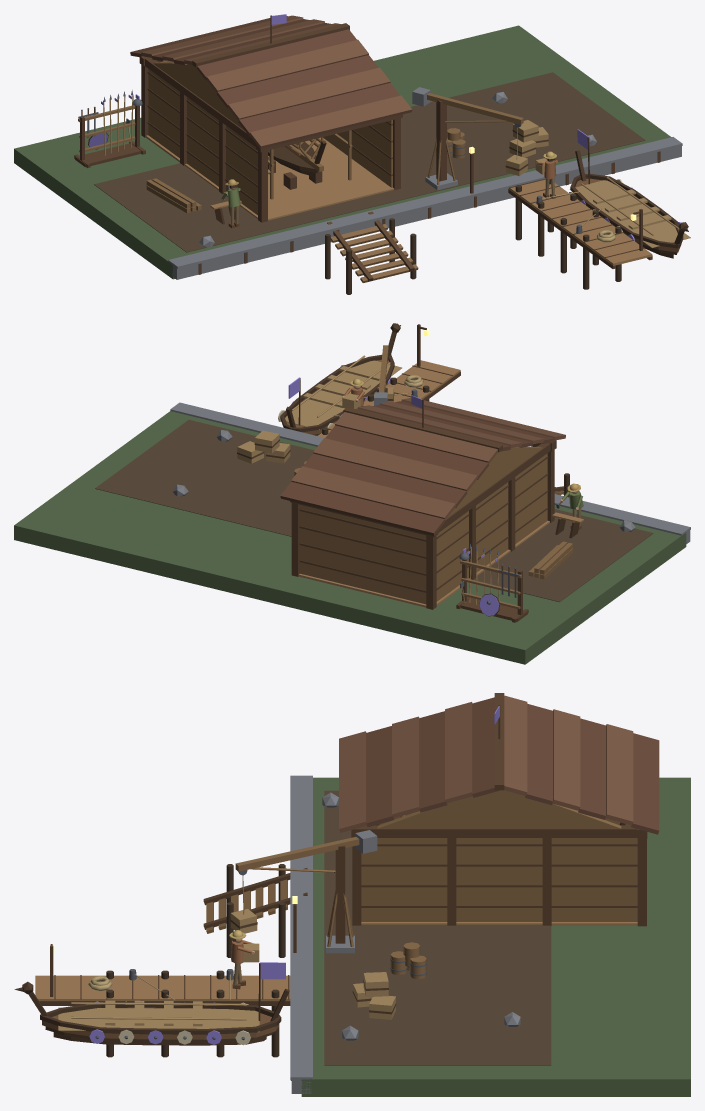
The model's file is Harbour.glb.
The picture shows the model from 3 angles, top to bottom: view 1: azimuth 30°, elevation 25°; view 2: azimuth 150°, elevation 25°; view 3: azimuth 270°, elevation 25°; orthographic projection. The views are drawn at different scales.
Visible parts, largest first — view 1: yard_dirt, land, shingle_row (×12), wall_side (×2), quay_cap, floor, quay_stone, pier_deck, post (×5), deck, gable, ridge (+7 smaller); view 2: land, shingle_row (×11), yard_dirt, wall_back, wall_side, quay_cap, post (×4), deck, pier_deck, gable, beam_side, ridge (+1 smaller); view 3: land, yard_dirt, shingle_row (×12), wall_side, quay_cap, pier_deck, gable, post (×4), batten_side (×4), deck, beam_side, jib_beam (+6 smaller).
Boxes of the visible parts, x1=… form: yard_dirt: x1=94, y1=72, x2=645, y2=252; land: x1=14, y1=25, x2=671, y2=279; shingle_row (×12): x1=130, y1=15, x2=412, y2=148; wall_side (×2): x1=148, y1=69, x2=392, y2=215; quay_cap: x1=168, y1=137, x2=682, y2=268; floor: x1=146, y1=135, x2=394, y2=220; quay_stone: x1=170, y1=146, x2=681, y2=279; pier_deck: x1=508, y1=179, x2=652, y2=265; post (×5): x1=141, y1=57, x2=400, y2=222; deck: x1=570, y1=180, x2=690, y2=247; gable: x1=153, y1=62, x2=244, y2=130; ridge: x1=192, y1=23, x2=349, y2=67; land: x1=14, y1=411, x2=686, y2=664; shingle_row (×11): x1=280, y1=398, x2=565, y2=535; yard_dirt: x1=95, y1=419, x2=653, y2=602; wall_back: x1=300, y1=504, x2=426, y2=604; wall_side: x1=436, y1=453, x2=547, y2=601; quay_cap: x1=170, y1=402, x2=690, y2=535; post (×4): x1=291, y1=450, x2=554, y2=609; deck: x1=280, y1=357, x2=401, y2=430; pier_deck: x1=318, y1=360, x2=460, y2=437; gable: x1=447, y1=446, x2=542, y2=517; beam_side: x1=438, y1=443, x2=550, y2=532; ridge: x1=343, y1=407, x2=502, y2=452; land: x1=301, y1=777, x2=690, y2=1096; yard_dirt: x1=324, y1=790, x2=551, y2=1065; shingle_row (×12): x1=339, y1=695, x2=659, y2=834; wall_side: x1=361, y1=838, x2=635, y2=921; quay_cap: x1=290, y1=775, x2=312, y2=1080; pier_deck: x1=35, y1=975, x2=290, y2=1000; gable: x1=377, y1=790, x2=621, y2=828; post (×4): x1=352, y1=838, x2=646, y2=926; batten_side (×4): x1=361, y1=844, x2=637, y2=907; deck: x1=58, y1=1007, x2=259, y2=1032; beam_side: x1=362, y1=825, x2=637, y2=837; jib_beam: x1=235, y1=837, x2=359, y2=871.
Size of the model in its own units: 22 by 8.1 by 20.86.
